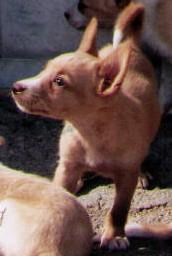Ibizan_hound: (12, 2, 171, 255), (0, 158, 92, 255)
